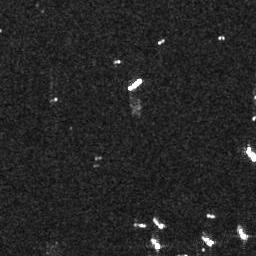ship: (127, 77, 144, 91), (238, 226, 250, 243), (245, 145, 256, 162), (150, 238, 163, 251), (153, 216, 165, 229), (203, 236, 214, 247), (132, 221, 147, 229), (207, 212, 215, 220), (156, 38, 166, 44), (113, 59, 123, 64)
